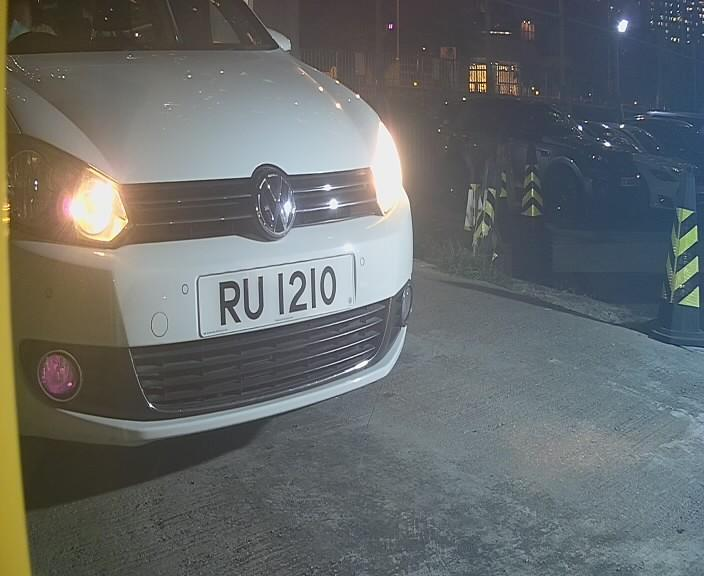privatecar: (7, 16, 431, 489)
